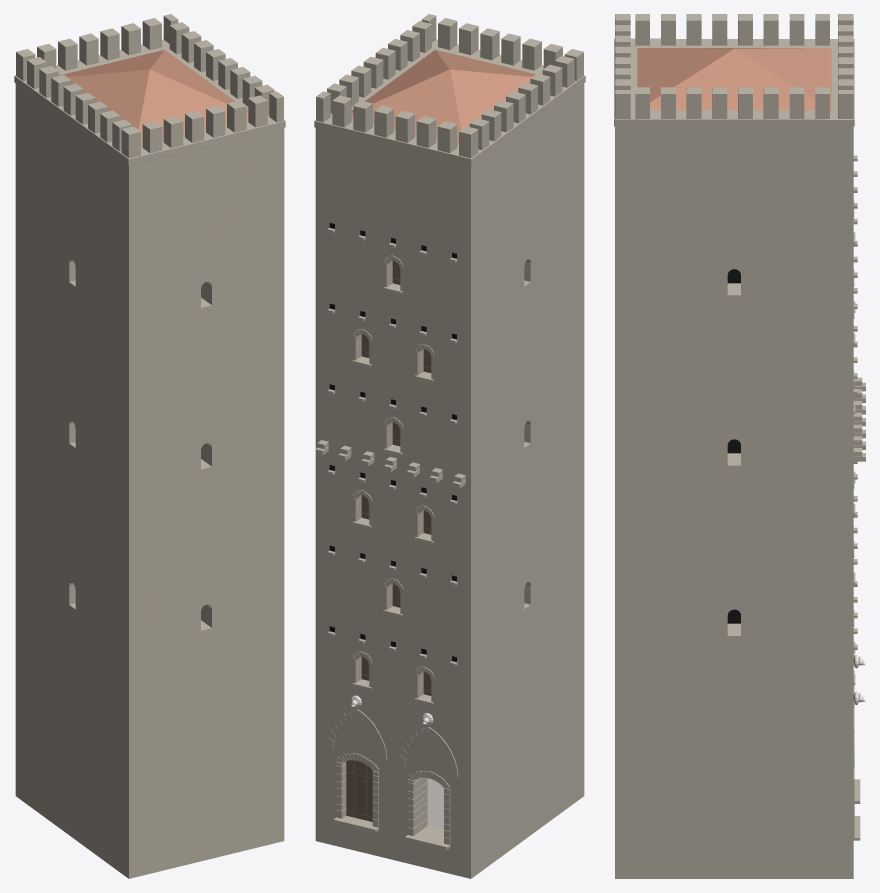
File: amidei.glb
3 renders of one model, left to right at view 1: azimuth 30°, elevation 25°; view 2: azimuth 150°, elevation 25°; view 3: azimuth 270°, elevation 25°, orthographic. The views are drawn at different scales.
Visible parts, largest first — view 1: amidei; view 2: amidei; view 3: amidei.
Boxes of the visible parts, x1,y1,x2,y2 form: amidei: (14, 14, 285, 878); amidei: (314, 14, 585, 878); amidei: (614, 14, 865, 878).
Bounding box in the file's own units: 8.56 × 39 × 11.27.
